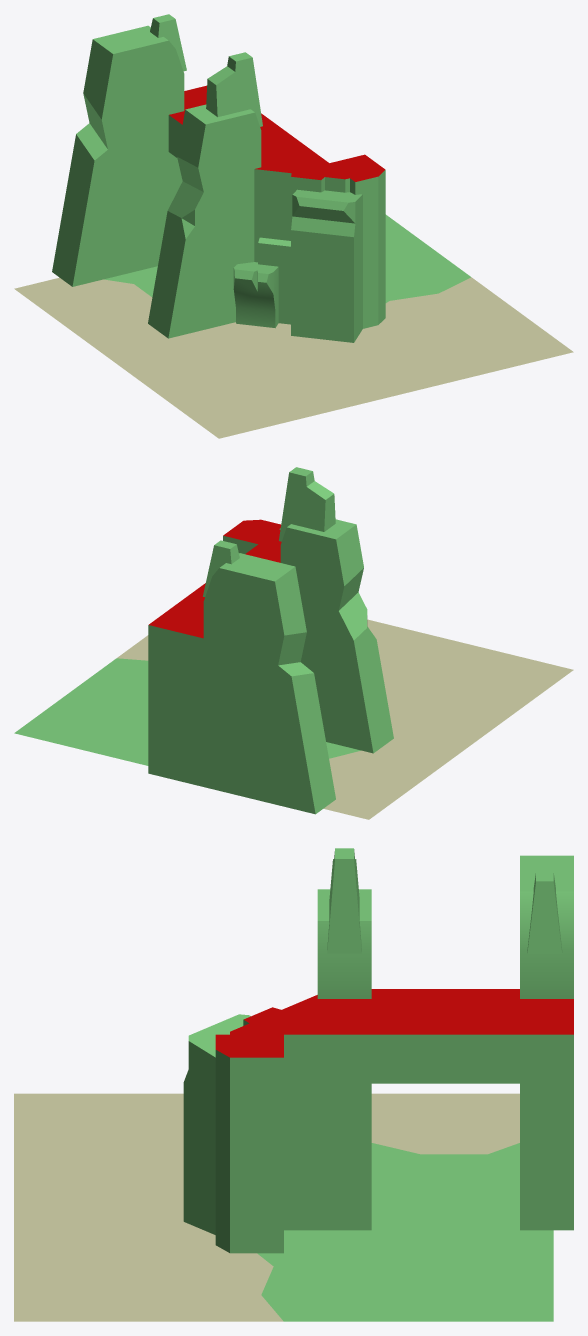
File: x_oo_ground_33_cave_entrance1_rmstrd.fbx
3 renders of one model, top to bottom at view 1: azimuth 30°, elevation 25°; view 2: azimuth 150°, elevation 25°; view 3: azimuth 270°, elevation 25°, orthographic. The views are drawn at different scales.
Visible parts, largest first — view 1: x_oo_ground_33_cave_entrance1_rmstrd1; view 2: x_oo_ground_33_cave_entrance1_rmstrd1; view 3: x_oo_ground_33_cave_entrance1_rmstrd1.
Boxes of the visible parts, x1,y1,x2,y2 form: x_oo_ground_33_cave_entrance1_rmstrd1: (14,14,573,438); x_oo_ground_33_cave_entrance1_rmstrd1: (14,467,573,819); x_oo_ground_33_cave_entrance1_rmstrd1: (14,848,573,1321).
Bounding box in the file's own units: 10 × 6.84 × 10.37.
